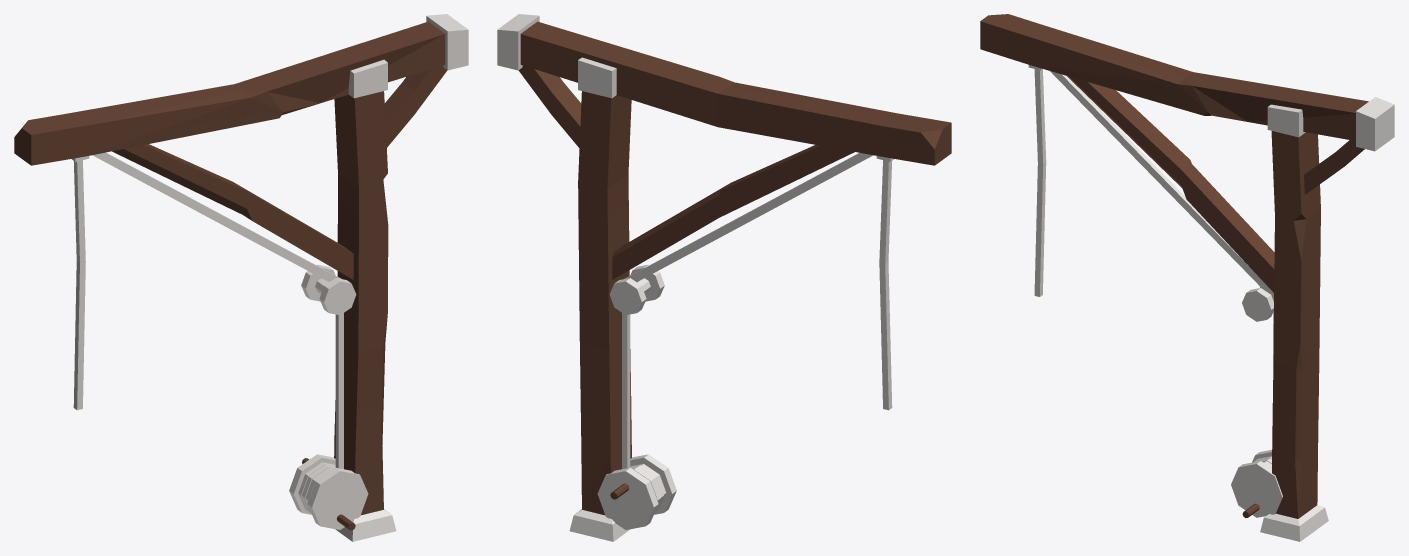
Rendered from Crane_2.fbx.
3 renders of one model, left to right at view 1: azimuth 30°, elevation 25°; view 2: azimuth 150°, elevation 25°; view 3: azimuth 330°, elevation 25°, orthographic. The views are drawn at different scales.
Visible parts, largest first — view 1: Crane_2; view 2: Crane_2; view 3: Crane_2.
Boxes of the visible parts, bbox=[...] form: Crane_2: bbox=[14, 14, 468, 541]; Crane_2: bbox=[497, 14, 951, 541]; Crane_2: bbox=[980, 14, 1394, 541].
Bounding box in the file's own units: 4.47 × 4.74 × 0.8316.
